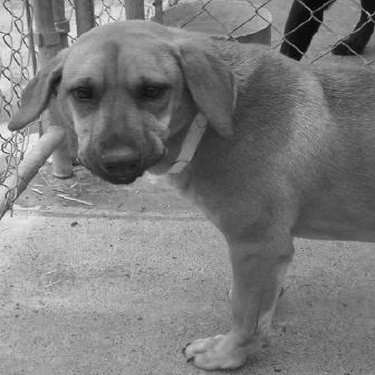dog: (5, 16, 370, 371)
